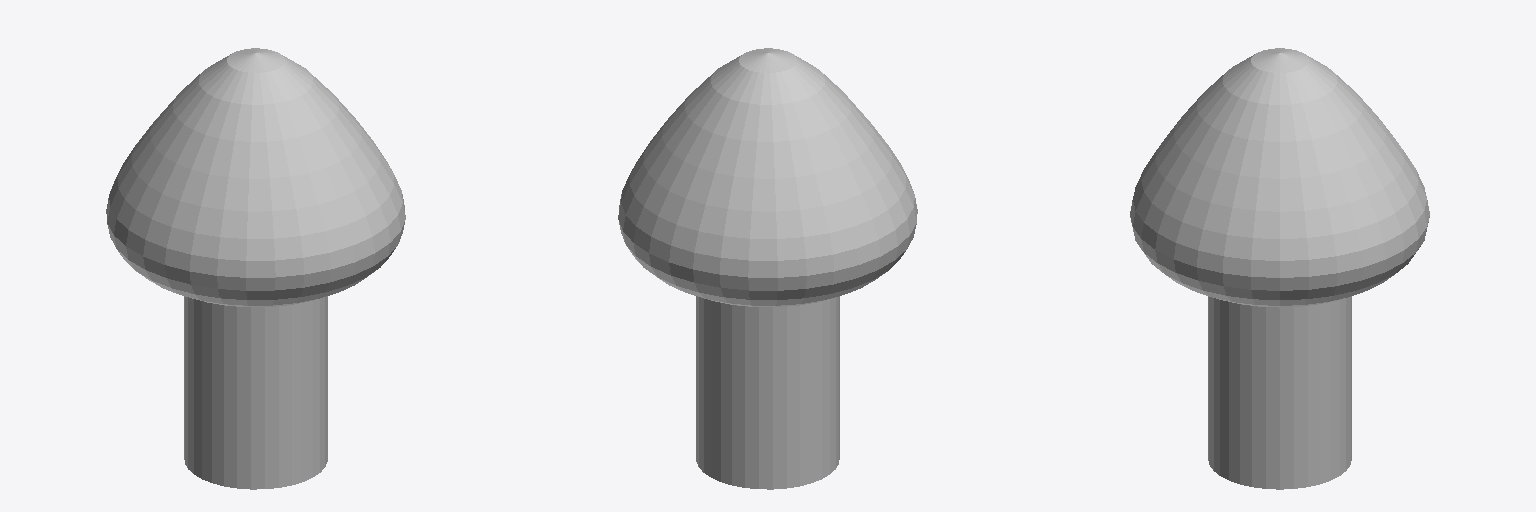
File: gomba.obj
The picture shows the model from 3 angles: view 1: azimuth 30°, elevation 25°; view 2: azimuth 150°, elevation 25°; view 3: azimuth 270°, elevation 25°; orthographic projection.
Visible parts, largest first — view 1: Sphere, Cylinder; view 2: Sphere, Cylinder; view 3: Sphere, Cylinder.
Part boxes in pixels (bbox=[...]): Sphere: bbox=[106, 48, 405, 306]; Cylinder: bbox=[184, 296, 327, 489]; Sphere: bbox=[618, 48, 917, 306]; Cylinder: bbox=[696, 296, 839, 489]; Sphere: bbox=[1130, 48, 1429, 307]; Cylinder: bbox=[1208, 296, 1351, 489].
Size of the model in its own units: 2 by 2.99 by 2.